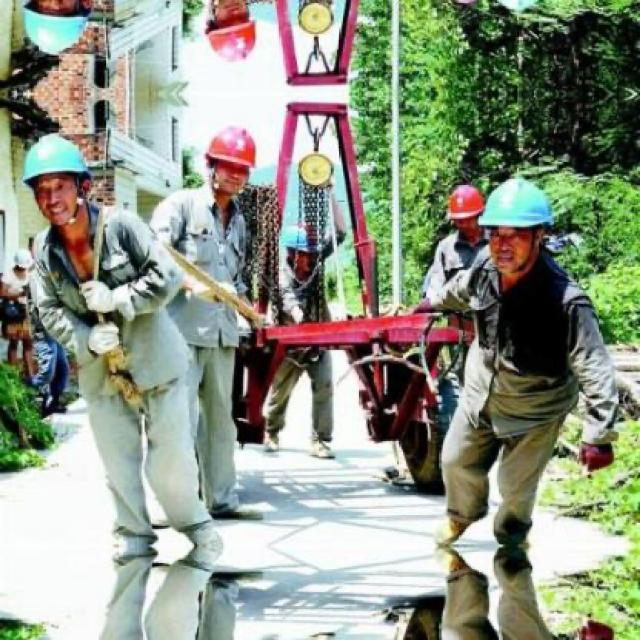helmet: (20, 128, 95, 233), (480, 176, 554, 268), (20, 0, 97, 62), (203, 120, 257, 204), (204, 0, 259, 69), (445, 182, 489, 241), (283, 222, 320, 276), (14, 248, 35, 278)
